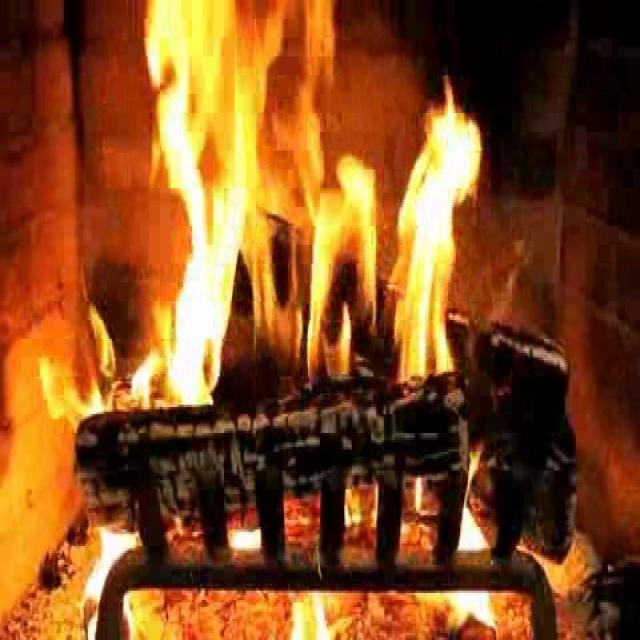fire: (123, 0, 506, 466)
